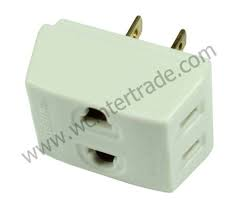Three_eye_plug: (20, 10, 219, 196)
